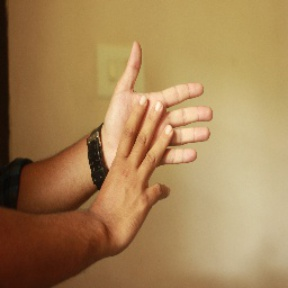M: (91, 39, 216, 212)
